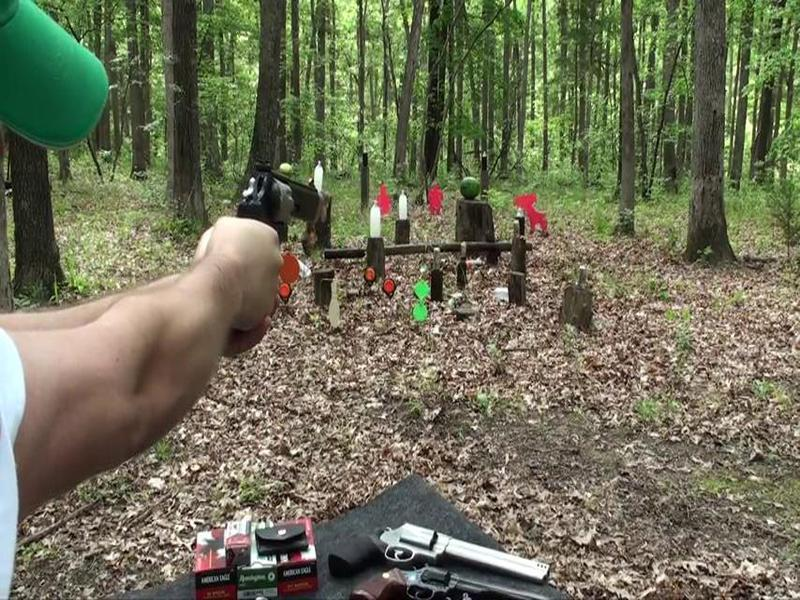Revolver: (230, 150, 325, 285)
